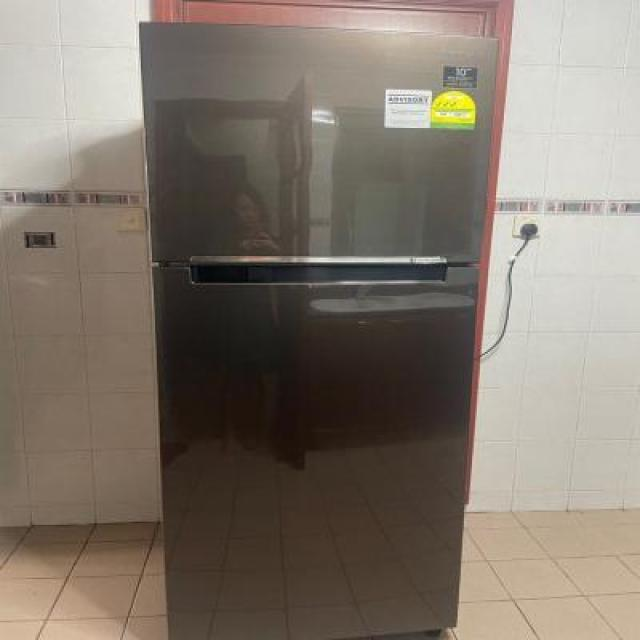refrigerator: (136, 19, 501, 640)
